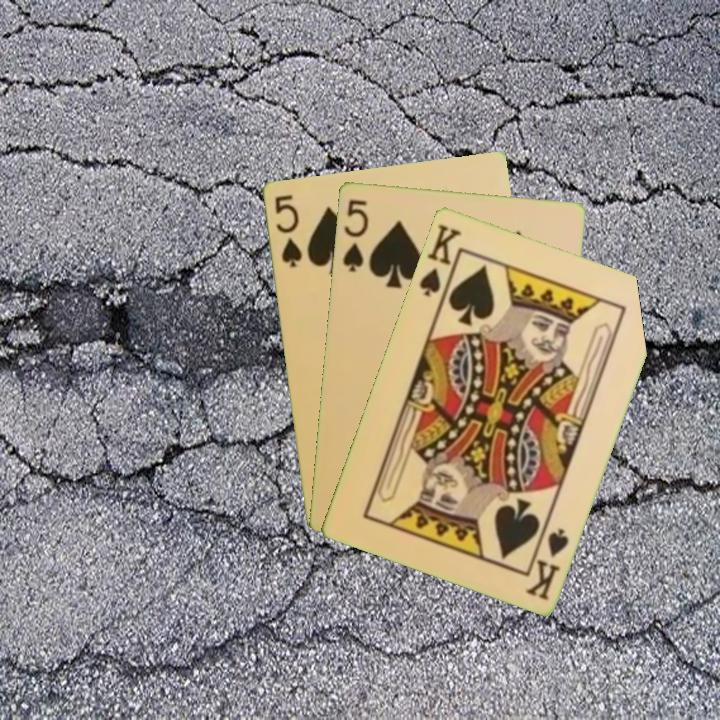5s: (270, 191, 305, 270), (338, 195, 371, 275)
Ks: (521, 524, 572, 603), (415, 220, 464, 299)
